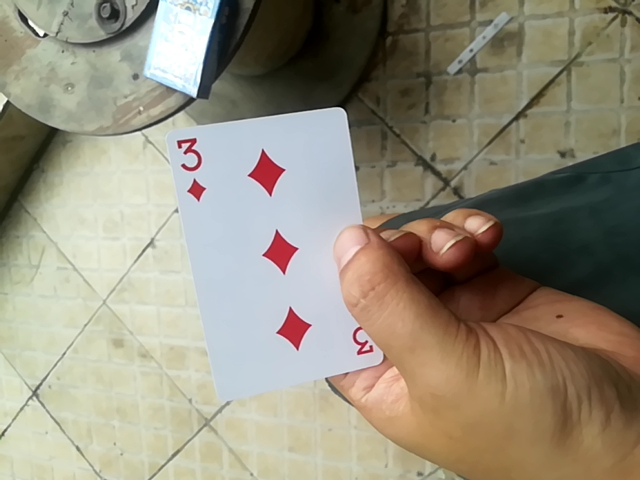fk 3: (163, 104, 380, 401)
